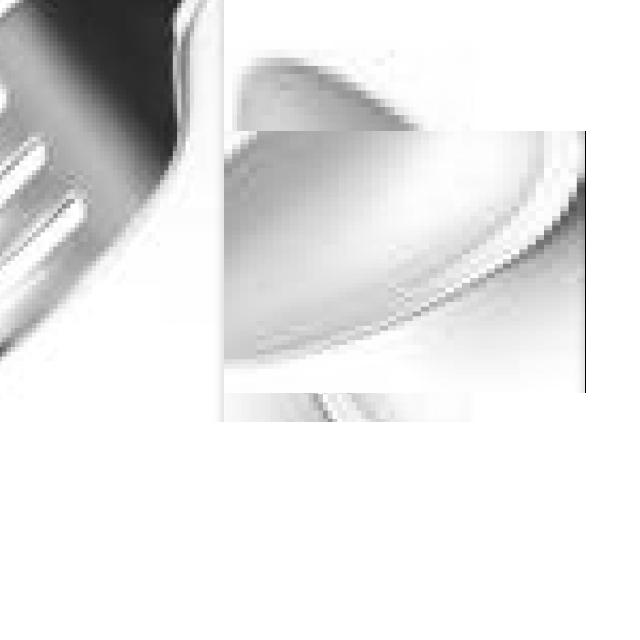forks: (0, 0, 224, 422)
spoons: (224, 73, 528, 422)
